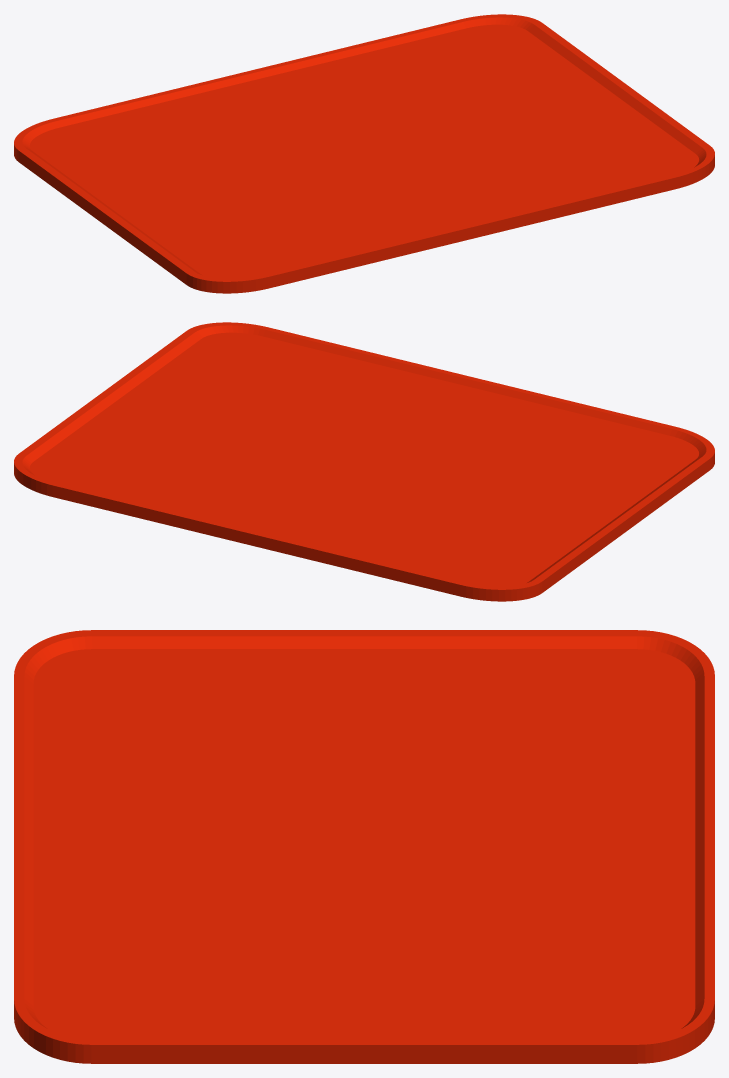
Rendered from Tray.fbx.
3 views of the same model, one above another, from view 1: azimuth 30°, elevation 25°; view 2: azimuth 150°, elevation 25°; view 3: azimuth 270°, elevation 25° (orthographic). The views are drawn at different scales.
Visible parts, largest first — view 1: Cube; view 2: Cube; view 3: Cube.
Part boxes in pixels (bbox=[...]): Cube: bbox=[14, 14, 714, 293]; Cube: bbox=[14, 322, 714, 601]; Cube: bbox=[14, 630, 714, 1063].
Size of the model in its own units: 70.19 by 1.5 by 50.13.
1 material, 1 textured.
